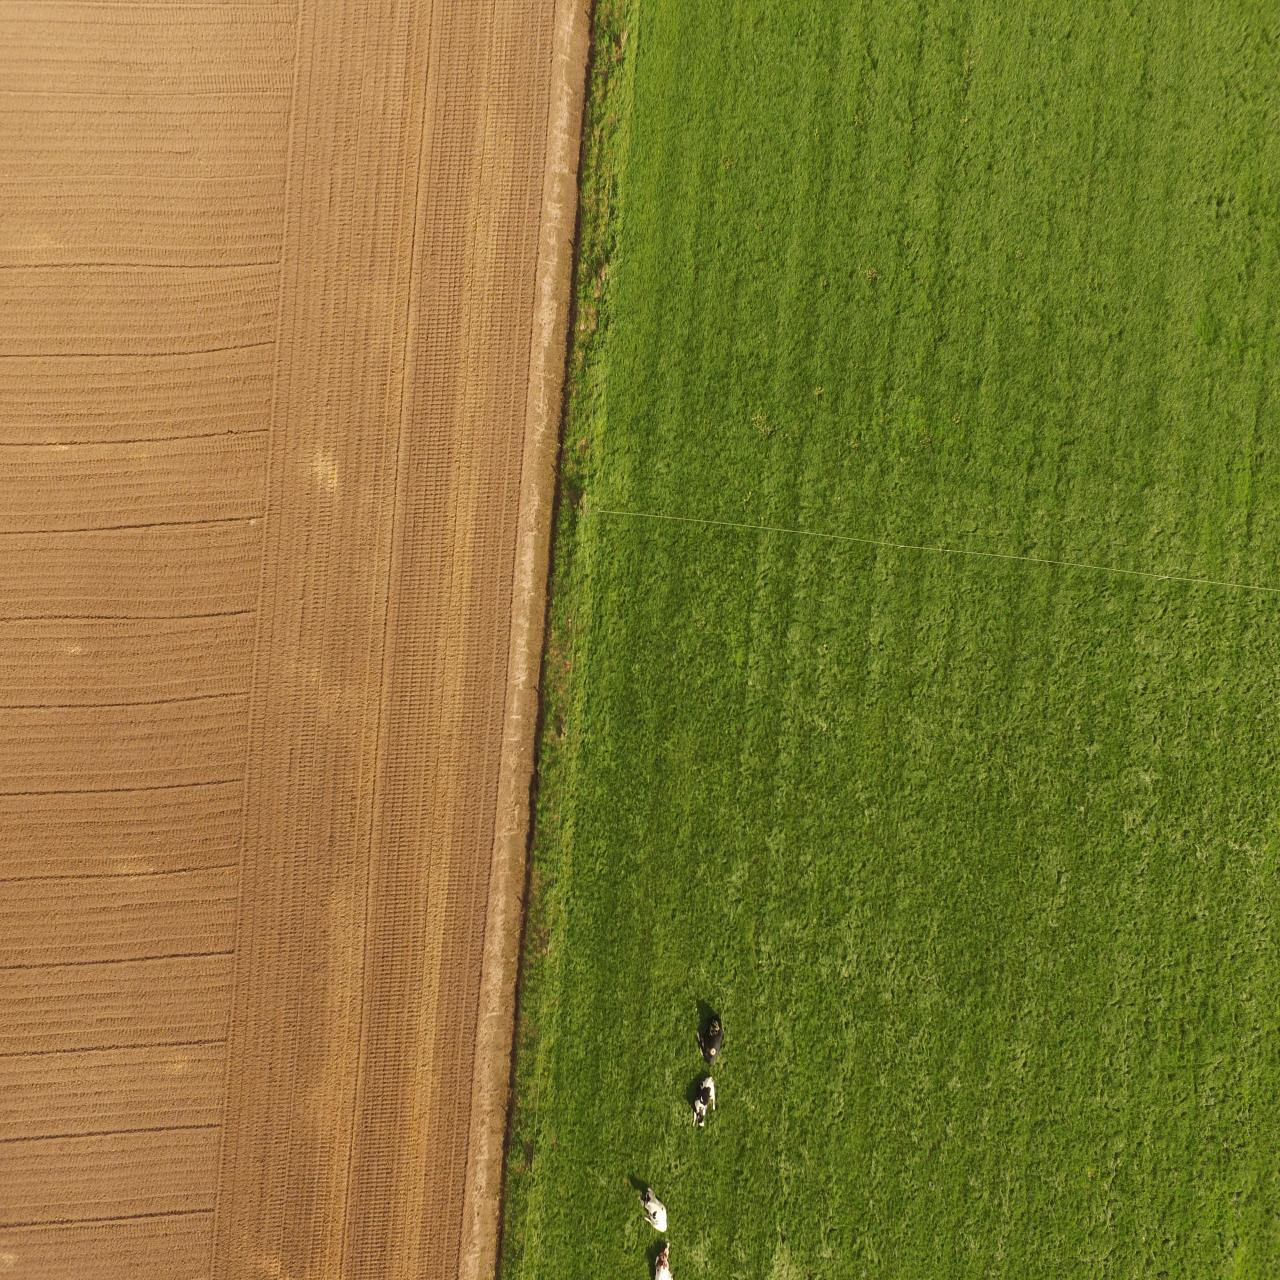cow: (634, 1184, 669, 1234), (694, 1014, 726, 1068), (690, 1074, 719, 1130), (654, 1240, 676, 1280)
